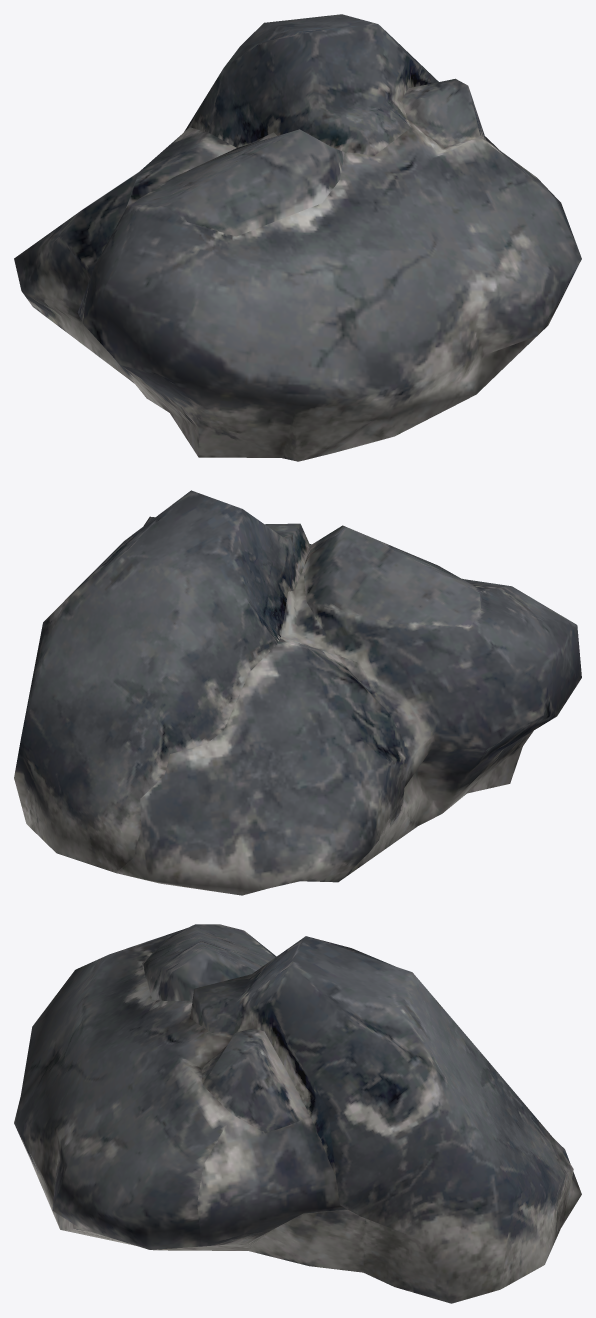
The model's file is SM_Com_Roc_39AS.fbx.
3 renders of one model, top to bottom at view 1: azimuth 30°, elevation 25°; view 2: azimuth 150°, elevation 25°; view 3: azimuth 270°, elevation 25°, orthographic. The views are drawn at different scales.
Visible parts, largest first — view 1: SM_Com_Roc_39AS.mo; view 2: SM_Com_Roc_39AS.mo; view 3: SM_Com_Roc_39AS.mo.
Boxes of the visible parts, x1,y1,x2,y2 form: SM_Com_Roc_39AS.mo: (14,14,581,461); SM_Com_Roc_39AS.mo: (14,490,581,895); SM_Com_Roc_39AS.mo: (14,924,581,1303).
Bounding box in the file's own units: 1.72 × 1.09 × 1.84.
